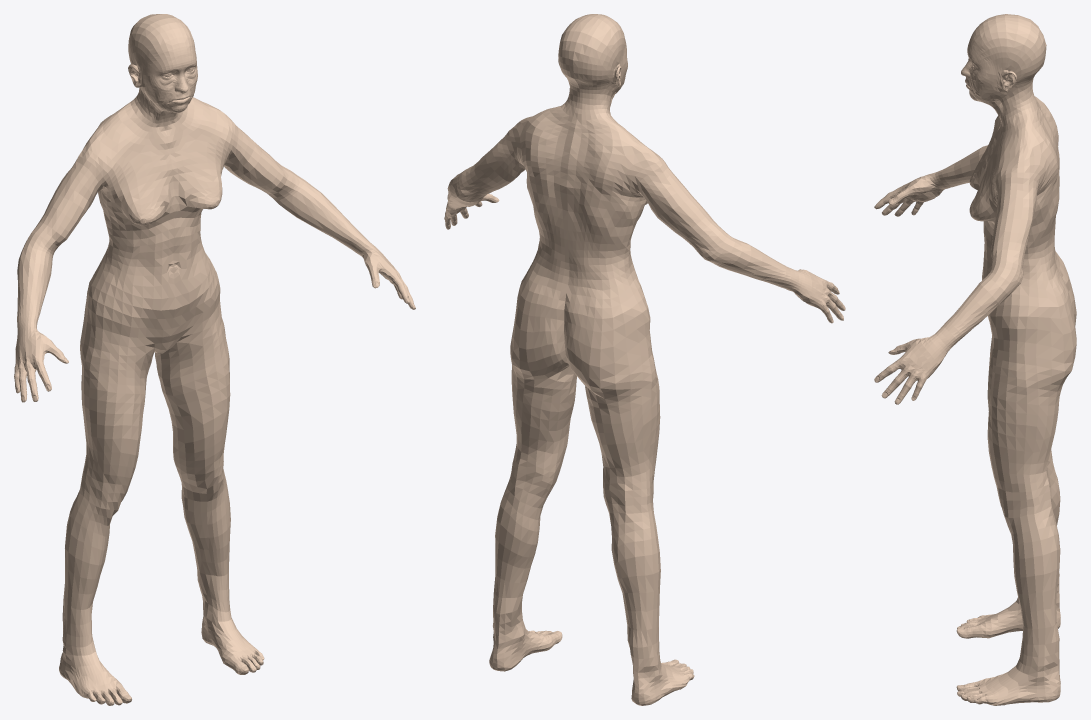
Rendered from female-elder-average-high.glb.
3 renders of one model, left to right at view 1: azimuth 30°, elevation 25°; view 2: azimuth 150°, elevation 25°; view 3: azimuth 270°, elevation 25°, orthographic.
Visible parts, largest first — view 1: world; view 2: world; view 3: world.
Boxes of the visible parts, bbox=[...] form: world: bbox=[14, 14, 415, 705]; world: bbox=[444, 14, 845, 705]; world: bbox=[874, 14, 1076, 705].
Size of the model in its own units: 1.13 by 1.8 by 0.5093.
